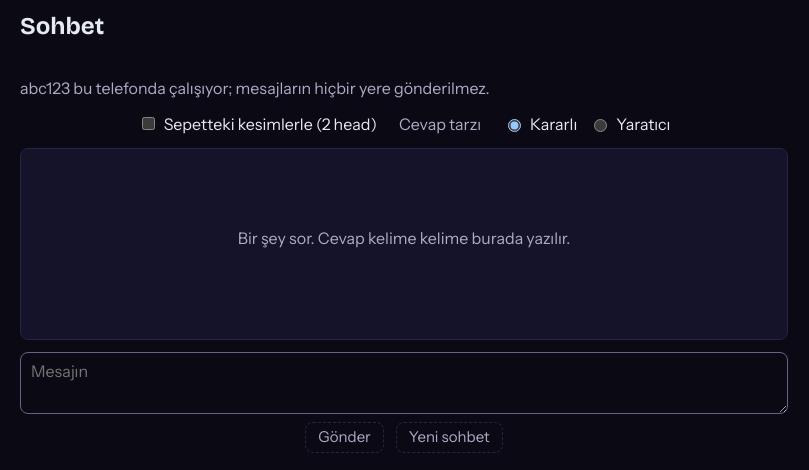
the basket head cuts can be switched on, and the answer is marked as cut
Click the checkbox labelled "Sepetteki kesimlerle (2 head)": (148, 124) x1=142 y1=117 x2=155 y2=130
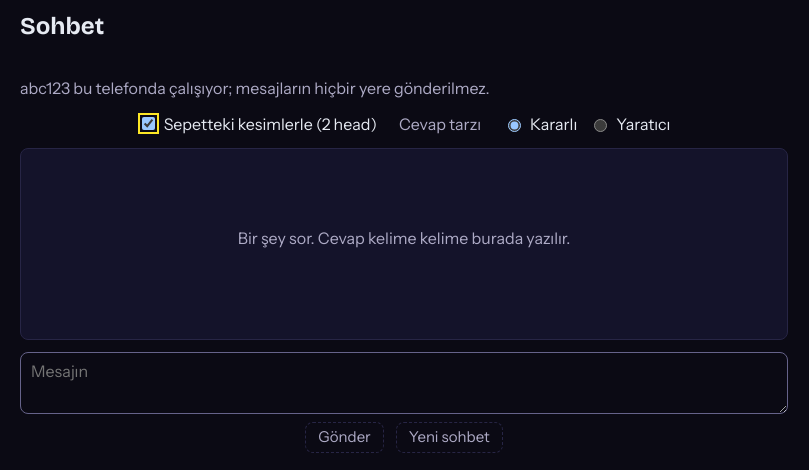
Click the radio button labelled "Yaratıcı": (601, 125) x1=594 y1=119 x2=607 y2=132
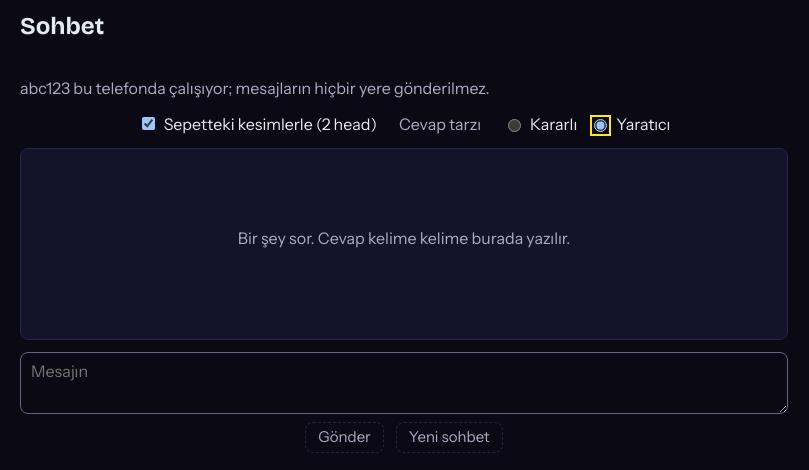
In the text box labelled "Mesajın": (404, 383) x1=20 y1=352 x2=788 y2=414, type "Selam"
Then press Enter
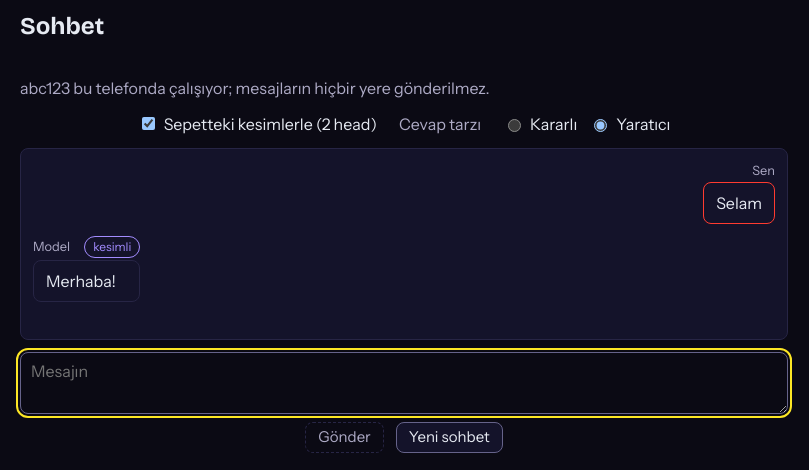
Expected: the text "Merhaba!" is shown, x1=33 y1=260 x2=140 y2=302
Expected: the text "kesimli" is shown, x1=84 y1=236 x2=140 y2=258
